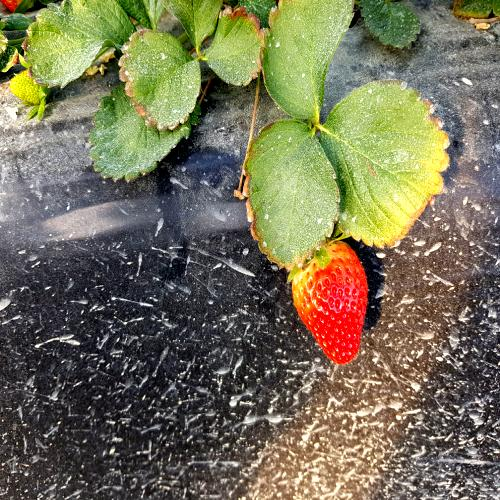ripe: (284, 223, 378, 366)
